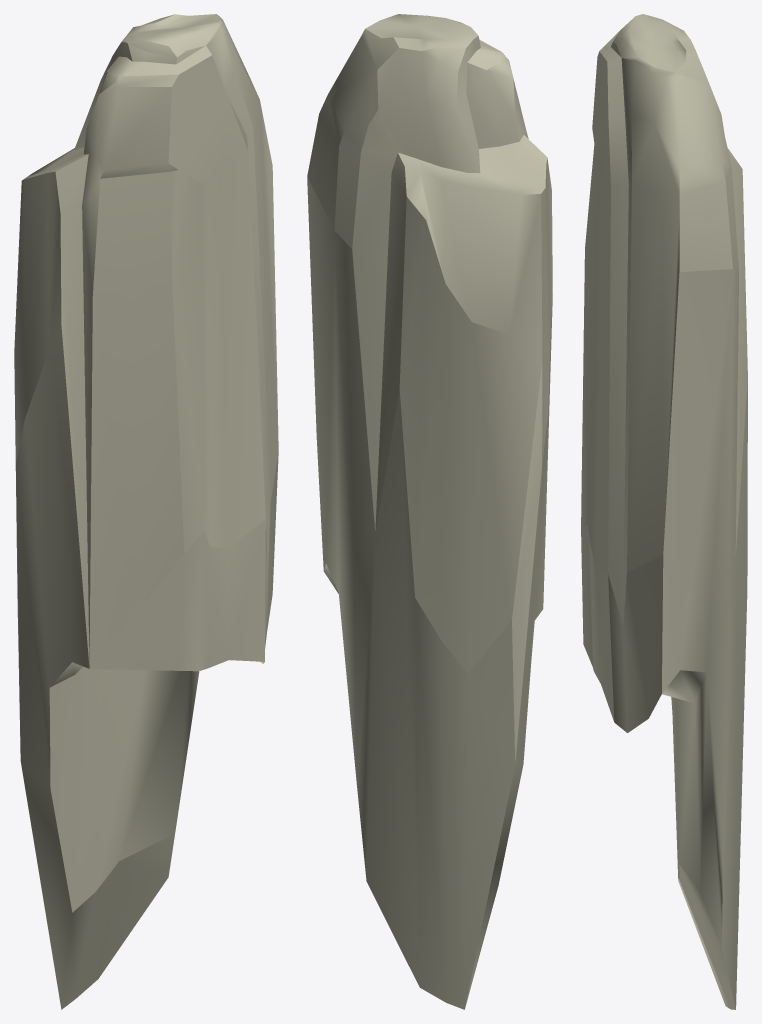
The model's file is mesa.glb.
3 renders of one model, left to right at view 1: azimuth 30°, elevation 25°; view 2: azimuth 150°, elevation 25°; view 3: azimuth 270°, elevation 25°, orthographic. The views are drawn at different scales.
Parts seen in each view (by area): view 1: CC0 boulder extended into deep mesa; view 2: CC0 boulder extended into deep mesa; view 3: CC0 boulder extended into deep mesa.
Boxes of the visible parts, left/top/right/bottom form: CC0 boulder extended into deep mesa: left=14, top=14, right=278, bottom=1009; CC0 boulder extended into deep mesa: left=307, top=14, right=552, bottom=1009; CC0 boulder extended into deep mesa: left=581, top=14, right=747, bottom=1009.
Size of the model in its own units: 16 by 60 by 9.
